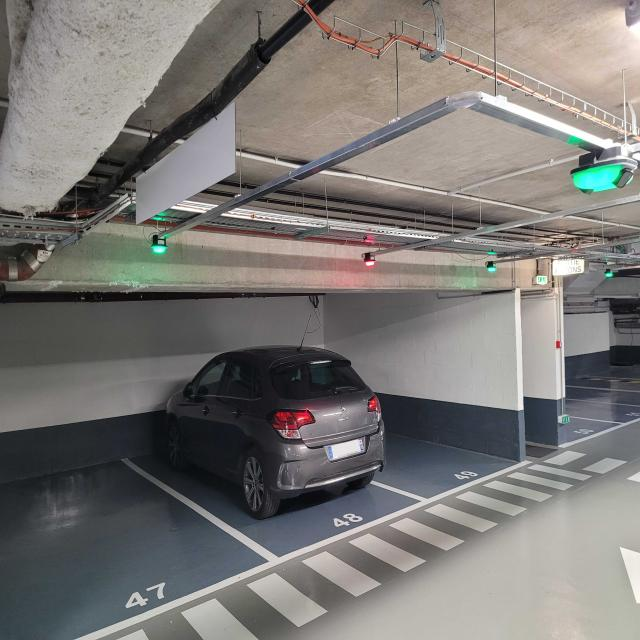libre: (0, 429, 187, 601), (390, 419, 505, 491)
ocupado: (158, 358, 386, 506)
